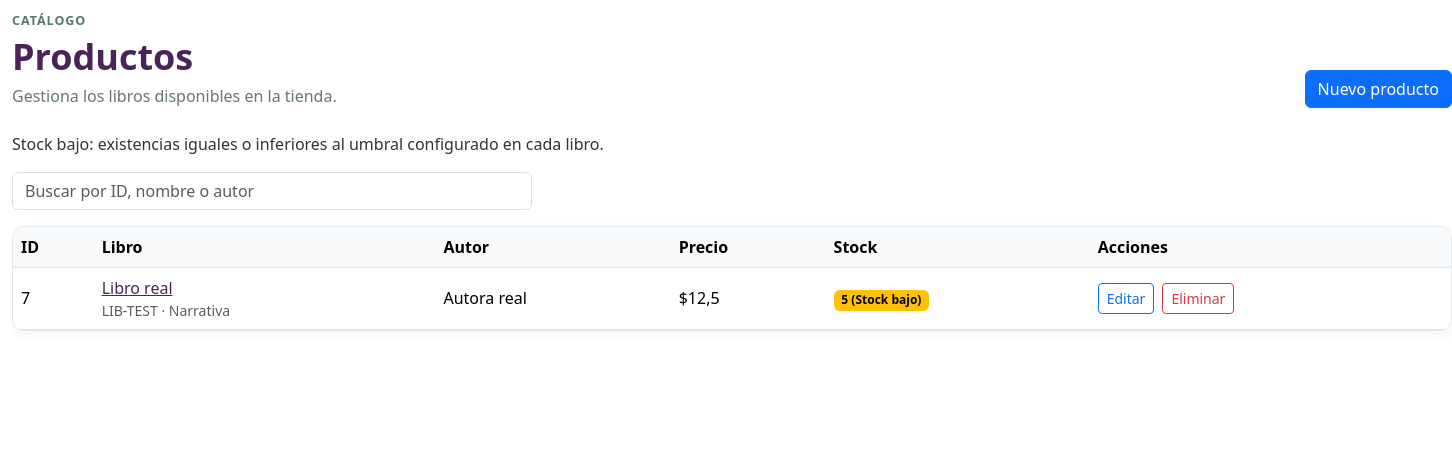
it: Productos mediante Gateway › conserva el libro ante un rechazo del servidor
The width and height of the screenshot is (1452, 461).
Note: Nota de lectura: Invoca la operación indicada con los argumentos de este bloque.
Click the button with aria-label "Eliminar Libro".
click(1198, 298)  # box x1=1162 y1=283 x2=1234 y2=314
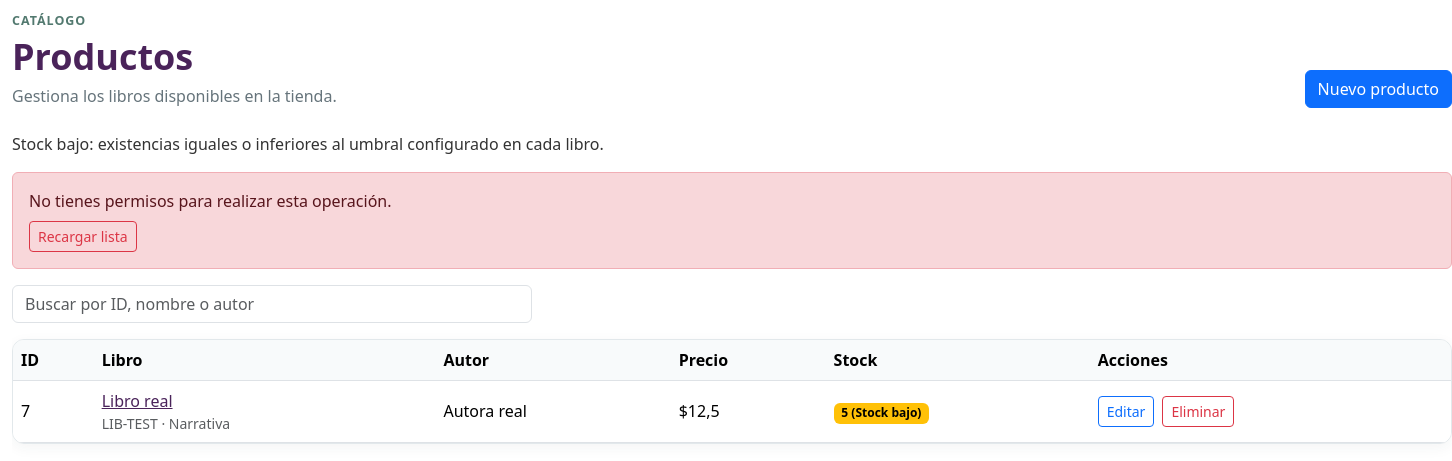
Expected: the link "Libro real" is shown, x1=102 y1=390 x2=172 y2=412
Expected: the message shows "permisos", x1=29 y1=190 x2=392 y2=212
